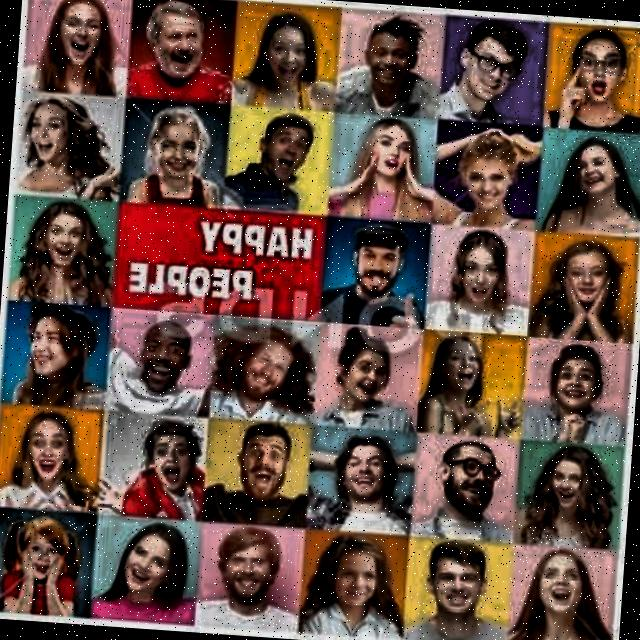happy: (12, 95, 136, 199), (307, 315, 412, 420), (209, 319, 321, 416), (417, 426, 507, 539), (444, 18, 541, 122), (421, 331, 515, 438), (318, 432, 425, 526), (339, 1, 430, 111), (12, 198, 116, 294), (135, 101, 228, 207), (5, 295, 101, 396), (524, 422, 615, 528), (105, 307, 201, 406), (204, 416, 315, 501), (531, 323, 619, 429), (200, 523, 301, 612), (405, 531, 504, 621), (0, 511, 94, 602), (538, 234, 636, 320), (0, 403, 98, 489), (310, 535, 410, 619), (548, 133, 638, 222), (335, 221, 427, 308), (508, 551, 605, 633), (127, 405, 211, 499), (341, 112, 430, 198), (431, 234, 528, 312), (243, 107, 322, 201), (443, 125, 527, 213), (107, 526, 186, 592)
surprised: (548, 25, 640, 129)
